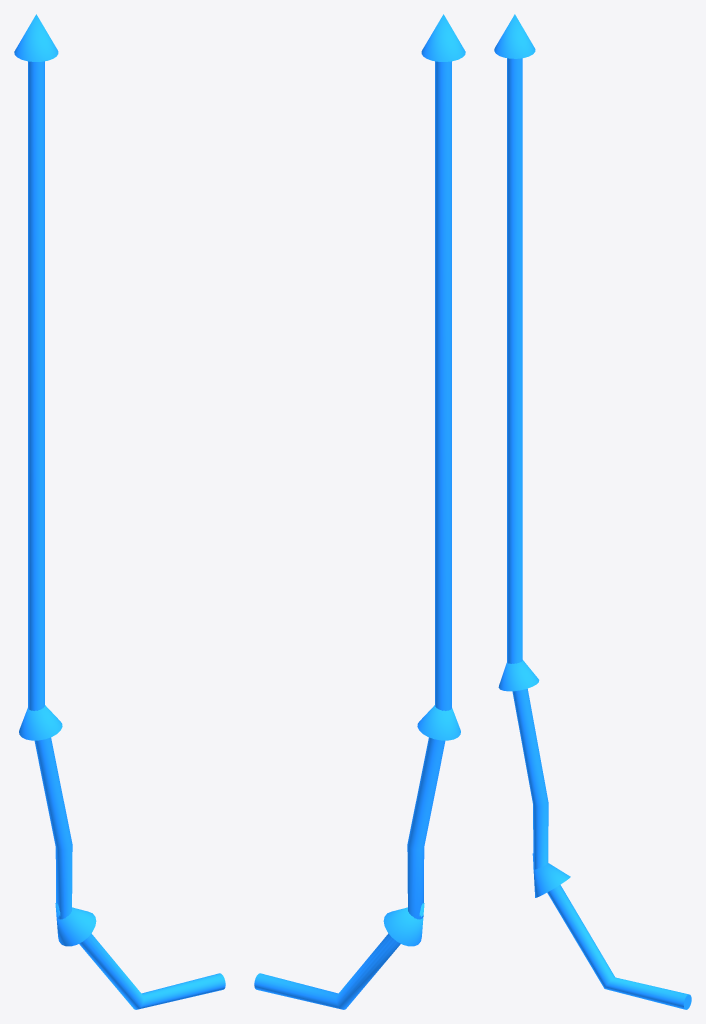
The model's file is foot_valve_flow.glb.
3 views of the same model, side by side, from view 1: azimuth 30°, elevation 25°; view 2: azimuth 150°, elevation 25°; view 3: azimuth 330°, elevation 25° (orthographic). The views are drawn at different scales.
Parts seen in each view (by area): view 1: flow; view 2: flow; view 3: flow.
Part boxes in pixels (x1=…): flow: x1=14, y1=14, x2=225, y2=1009; flow: x1=254, y1=14, x2=465, y2=1009; flow: x1=494, y1=14, x2=691, y2=1009.
Size of the model in its own units: 0.2208 by 1.05 by 0.0416.
